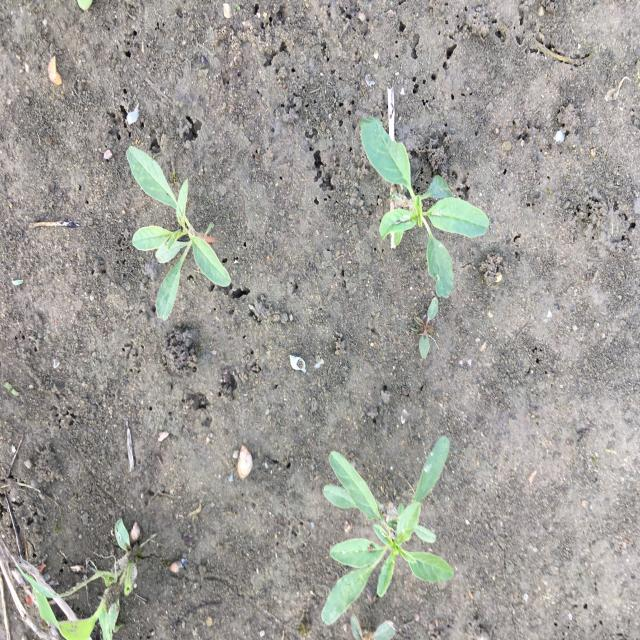Waterhemp: (318, 433, 456, 627), (358, 114, 491, 300), (125, 146, 232, 321)
